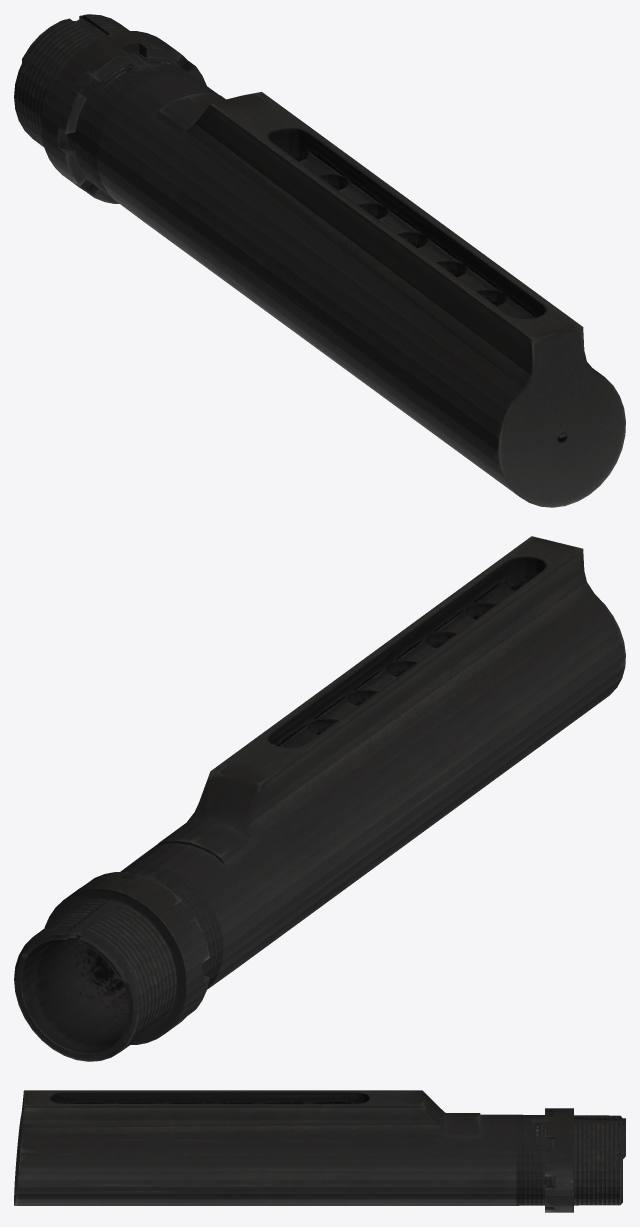
3 views of the same model, one above another, from view 1: azimuth 30°, elevation 25°; view 2: azimuth 150°, elevation 25°; view 3: azimuth 270°, elevation 25° (orthographic). The views are drawn at different scales.
Parts seen in each view (by area): view 1: TW_602e3f1254072b51b239f713_PZ_Import; view 2: TW_602e3f1254072b51b239f713_PZ_Import; view 3: TW_602e3f1254072b51b239f713_PZ_Import.
Part boxes in pixels (x1,y1,x2,y2): TW_602e3f1254072b51b239f713_PZ_Import: (14, 14, 625, 507); TW_602e3f1254072b51b239f713_PZ_Import: (14, 536, 625, 1061); TW_602e3f1254072b51b239f713_PZ_Import: (14, 1090, 625, 1212).
Bounding box in the file's own units: 0.0197 × 0.1156 × 0.0228.
1 material, 1 textured.
